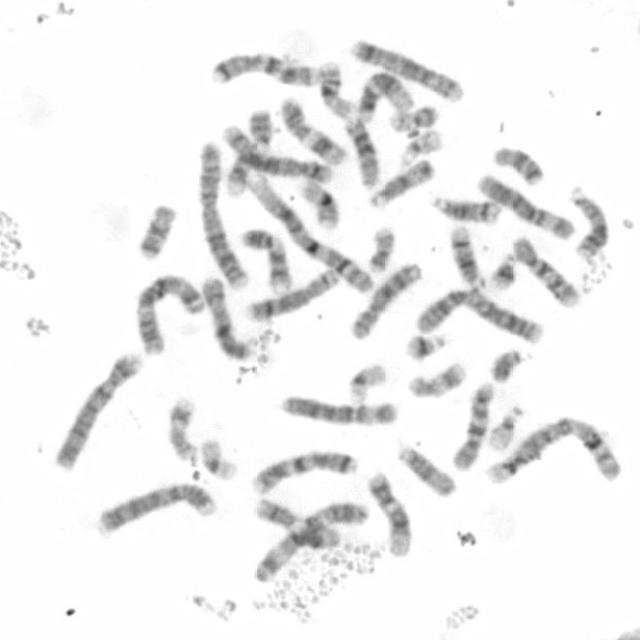A1: (247, 170, 376, 296), (485, 416, 621, 485)
A2: (196, 140, 248, 290), (412, 288, 545, 346)
A3: (252, 501, 369, 584), (134, 269, 206, 358)
B4: (54, 350, 144, 472), (97, 480, 217, 536)
B5: (349, 37, 465, 104), (221, 123, 334, 185)
C10: (511, 236, 581, 310), (451, 380, 495, 472)
C11: (279, 96, 349, 170), (253, 496, 342, 550)
C12: (365, 471, 412, 558), (354, 70, 417, 123)
C6: (477, 174, 578, 243), (280, 395, 400, 426)
C7: (249, 450, 360, 495), (208, 53, 342, 89)
C8: (348, 261, 424, 341), (244, 266, 342, 324)
C9: (223, 108, 274, 198), (240, 228, 292, 294)
D13: (567, 187, 610, 259), (341, 116, 380, 193)
D14: (448, 222, 487, 290), (426, 196, 504, 227)
D15: (393, 442, 456, 499), (368, 157, 436, 209)
E16: (317, 60, 357, 121), (296, 177, 342, 230)
E17: (406, 362, 468, 401), (166, 395, 199, 462)
E18: (135, 203, 178, 260), (492, 146, 546, 187)
F19: (347, 361, 389, 405), (200, 437, 239, 481)
F20: (388, 104, 440, 132), (368, 226, 394, 272)
G21: (402, 332, 448, 363), (489, 252, 516, 293)
G22: (486, 404, 523, 453), (398, 129, 443, 169)
X: (199, 275, 253, 362)
Y: (490, 347, 527, 386)
